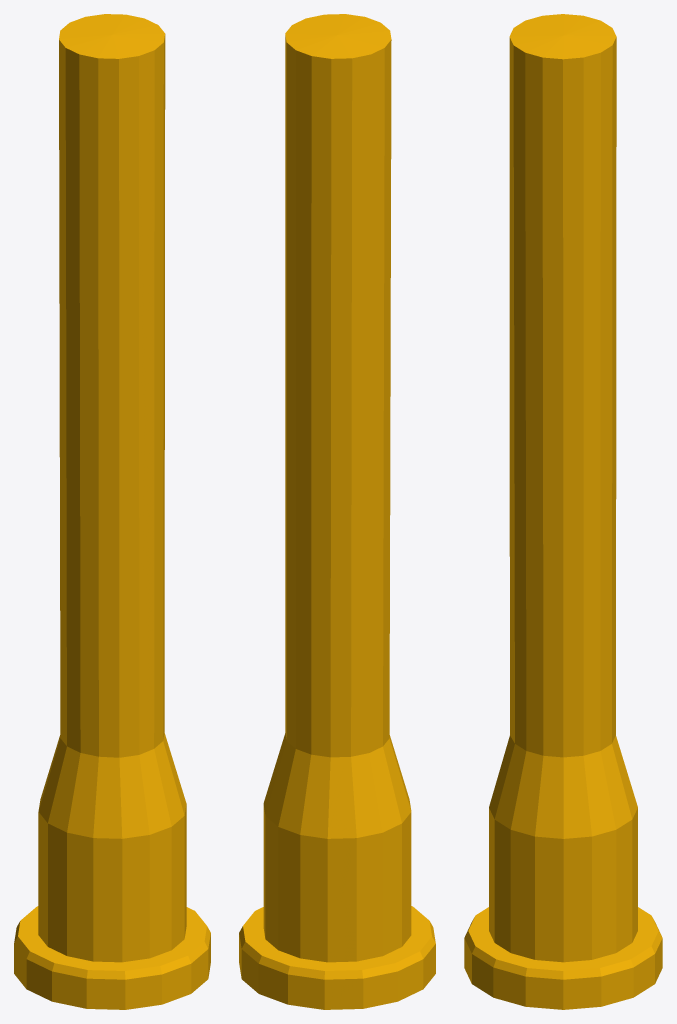
The model's file is COLUMN_BOT.fbx.
The picture shows the model from 3 angles, left to right: view 1: azimuth 30°, elevation 25°; view 2: azimuth 150°, elevation 25°; view 3: azimuth 270°, elevation 25°; orthographic projection.
Parts seen in each view (by area): view 1: COLUMN_BOT; view 2: COLUMN_BOT; view 3: COLUMN_BOT.
Boxes of the visible parts, box(x1,y1,x2,y2) form: COLUMN_BOT: box(14, 14, 210, 1009); COLUMN_BOT: box(239, 14, 435, 1009); COLUMN_BOT: box(464, 14, 662, 1009).
Bounding box in the file's own units: 77.46 × 402 × 77.46.
